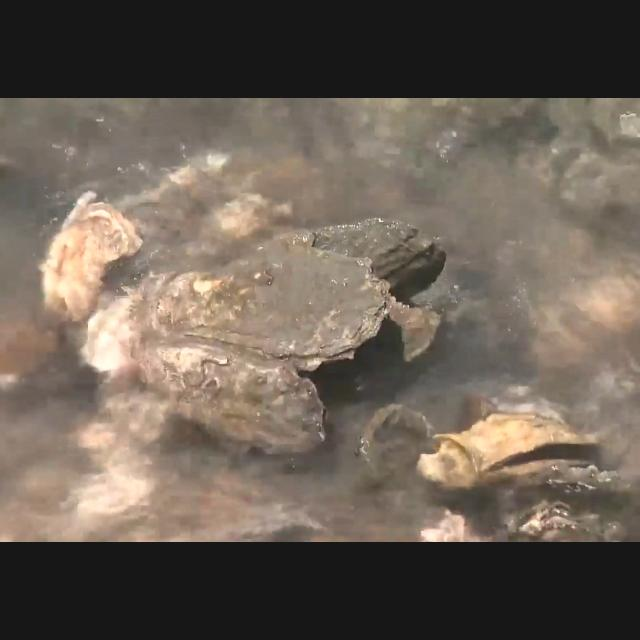Oyster-Closed: (146, 244, 394, 368), (142, 342, 324, 451), (36, 190, 140, 306), (308, 217, 448, 291)
Oyster-Open: (418, 410, 598, 490)
